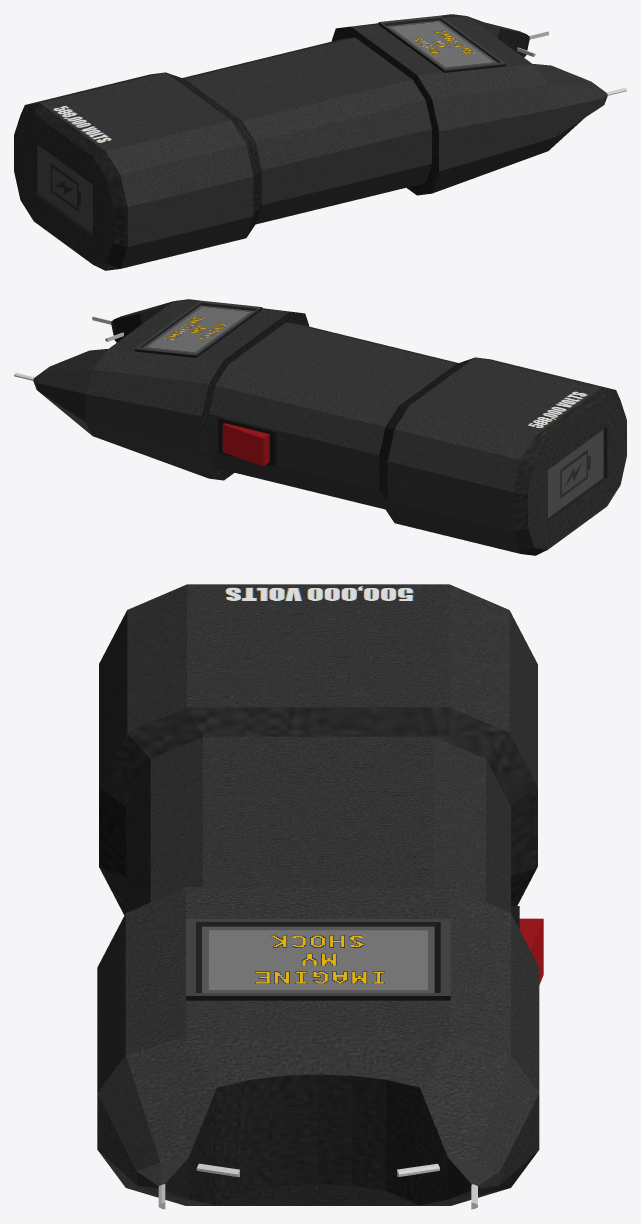
Rendered from WorldItem_StunGun.fbx.
3 renders of one model, top to bottom at view 1: azimuth 30°, elevation 25°; view 2: azimuth 150°, elevation 25°; view 3: azimuth 270°, elevation 25°, orthographic. The views are drawn at different scales.
Parts seen in each view (by area): view 1: ZomboidStunGun; view 2: ZomboidStunGun; view 3: ZomboidStunGun.
Part boxes in pixels (<box>): ZomboidStunGun: <box>14,14,626,270</box>; ZomboidStunGun: <box>14,299,626,555</box>; ZomboidStunGun: <box>97,584,543,1209</box>.
Bounding box in the file's own units: 0.1752 × 0.0385 × 0.0647.
